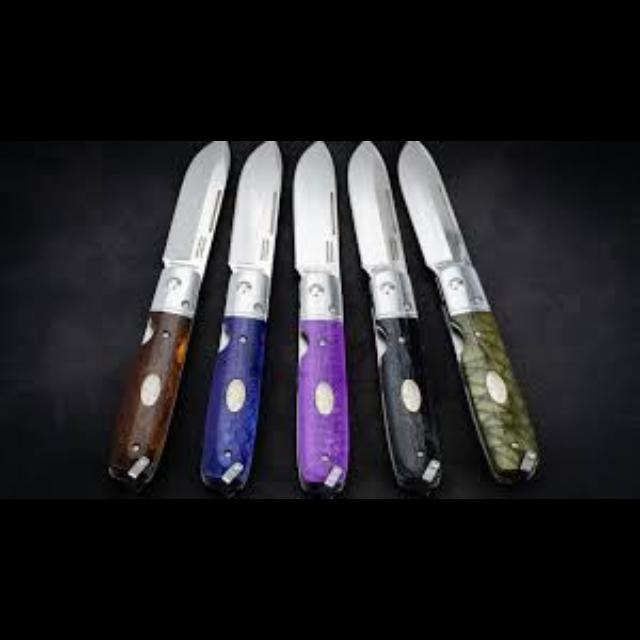knife: (394, 142, 542, 484), (104, 141, 230, 493), (346, 141, 444, 493), (198, 141, 282, 495), (290, 141, 350, 497)
